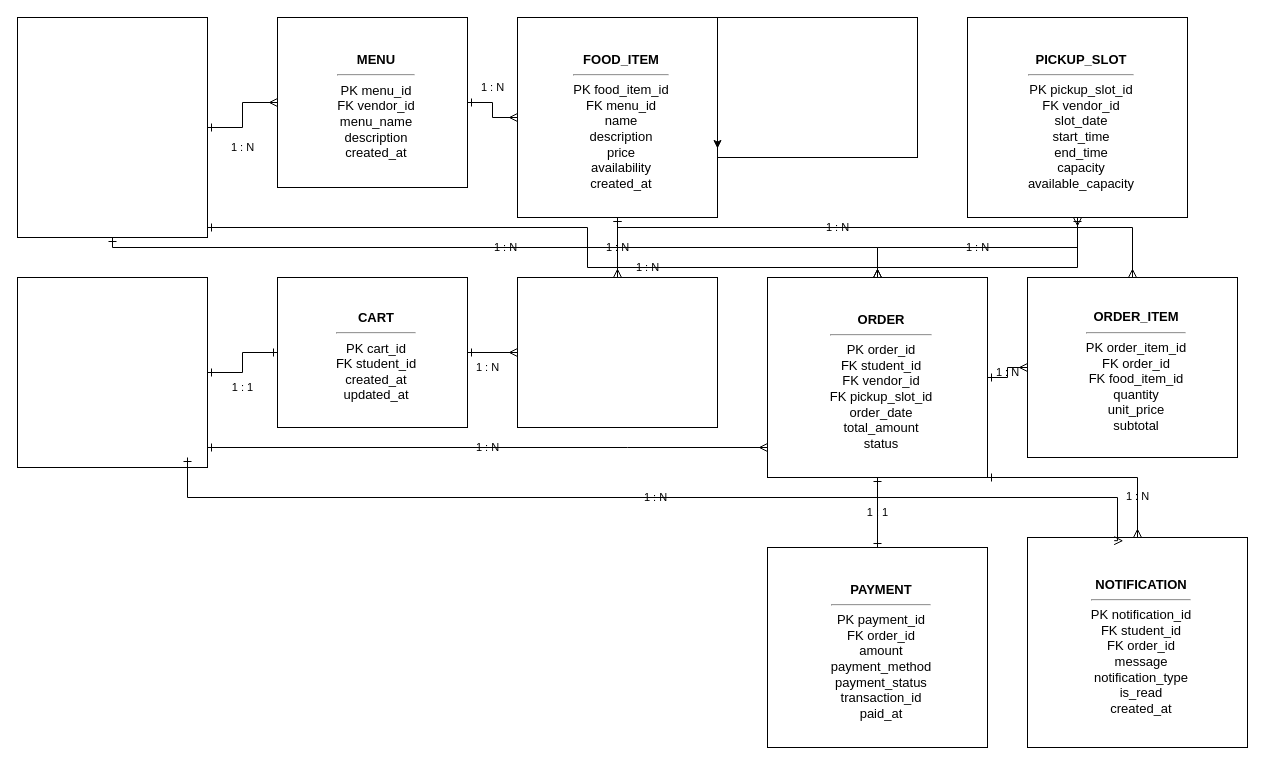
This 1265x765 diagram has some shape labels left out. The shapes that lost their labels are listed below. From the top down, each one's centre as x and y in pixels, then its label:
At pixel 817 87: "ADMINISTRATOR PK admin_id name email password".
At pixel 112 127: "VENDOR PK vendor_id name email password phone location status created_at".
At pixel 112 372: "STUDENT PK student_id name email password phone created_at".
At pixel 617 352: "CART_ITEM PK cart_item_id FK cart_id FK food_item_id quantity".
